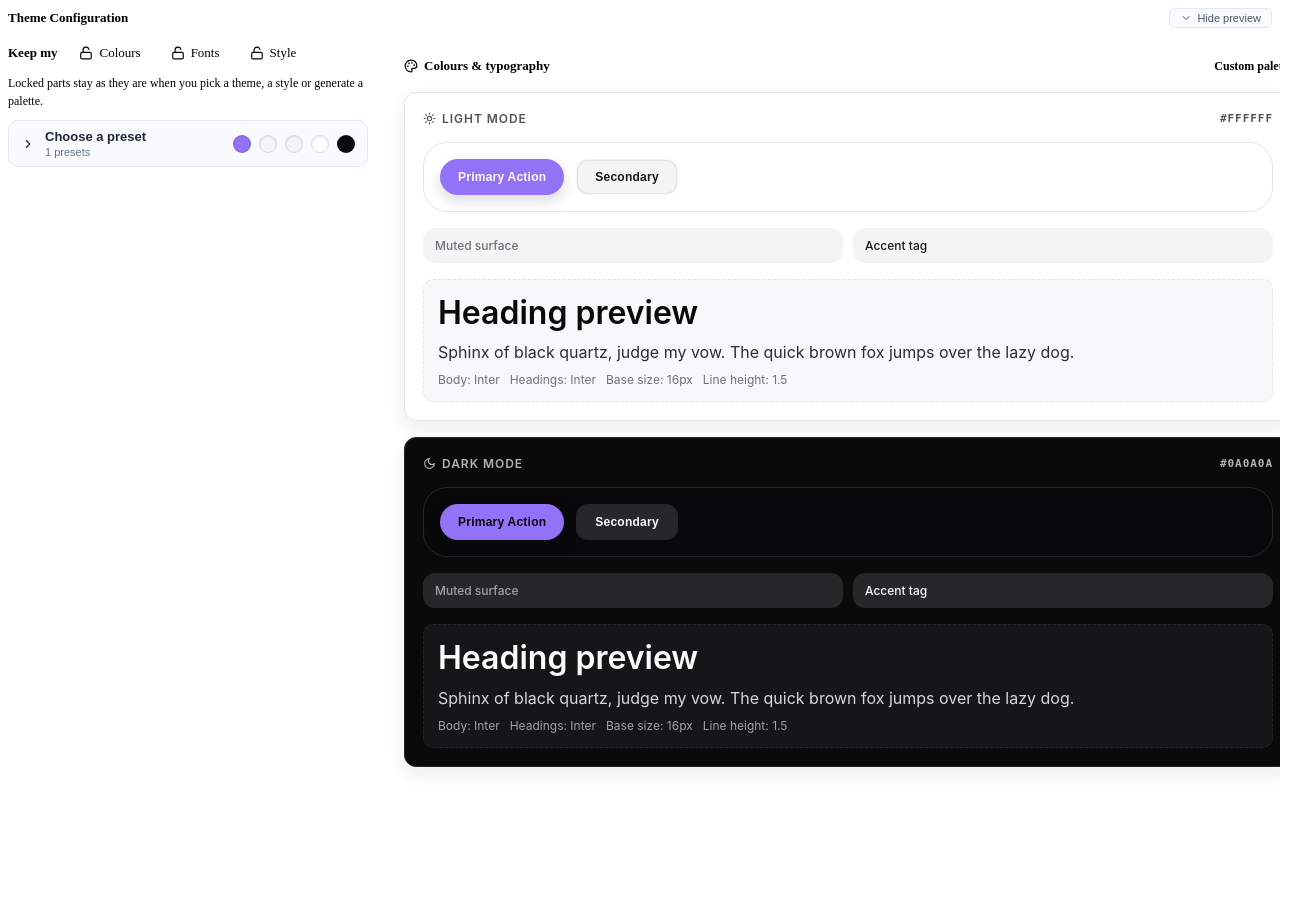
Scenario: ThemePreviewField › uses admin.themePresets when provided
Click the button "Choose a preset 1 presets" at (96, 136), box [8, 120, 368, 167]
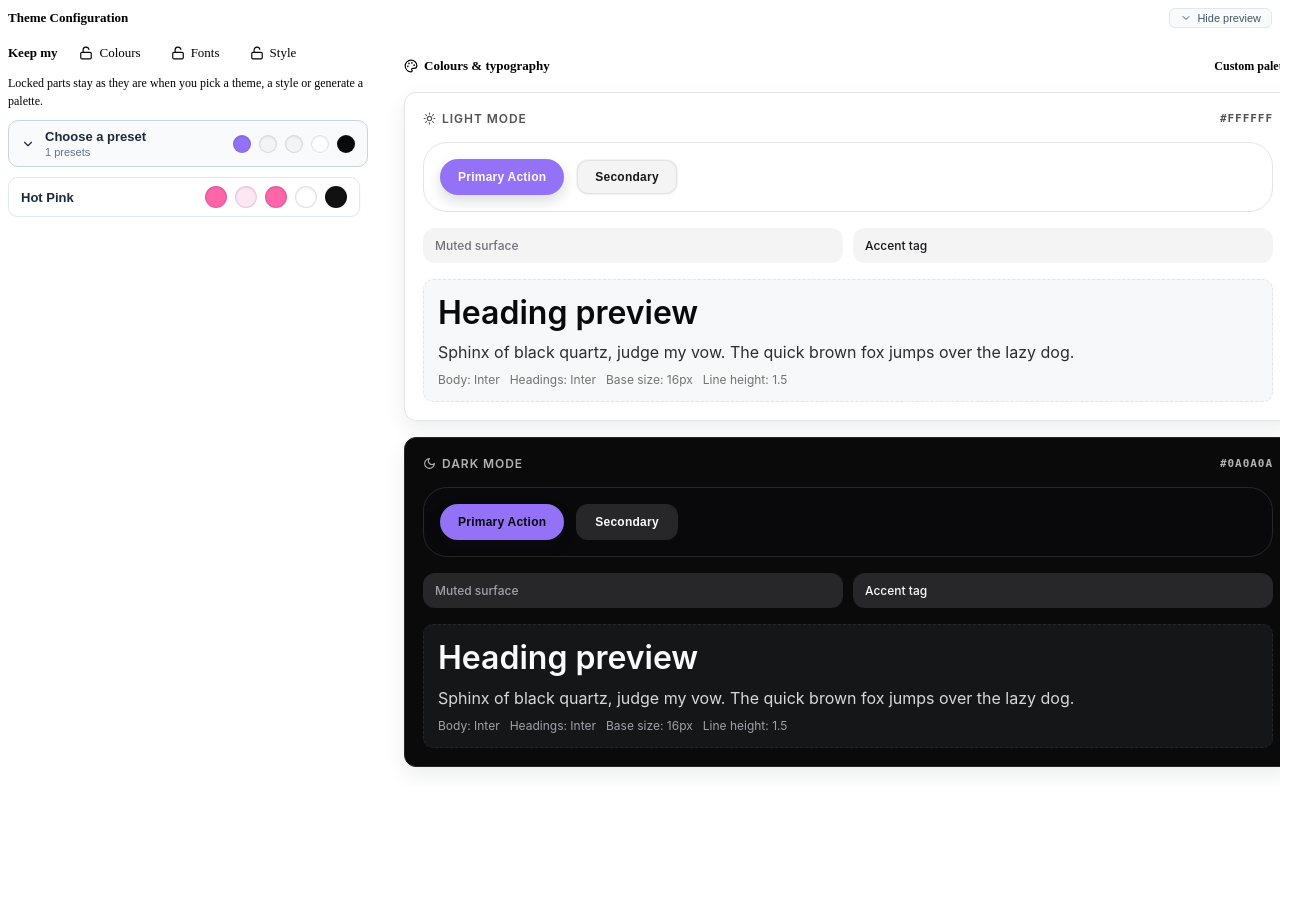
Now the button "Hot Pink" is shown, box [8, 177, 360, 217]
